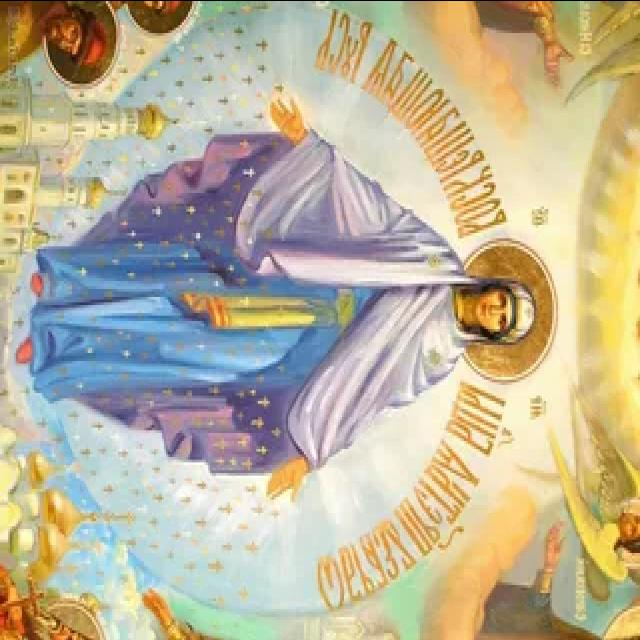mother of god: (31, 120, 546, 500)
